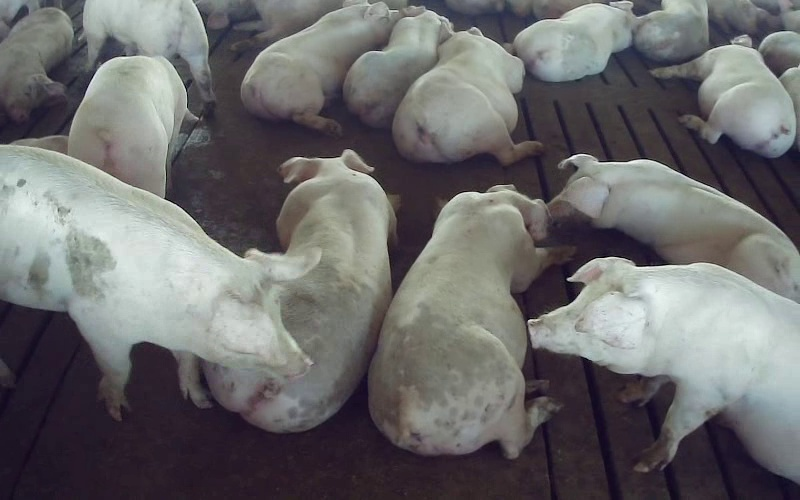pig: (529, 257, 799, 483), (369, 185, 573, 458), (204, 150, 398, 430), (549, 154, 799, 301), (241, 0, 401, 135), (392, 21, 542, 165), (68, 56, 196, 196), (651, 35, 795, 157), (83, 0, 215, 113), (343, 7, 452, 127), (0, 8, 73, 123), (633, 0, 708, 62)
